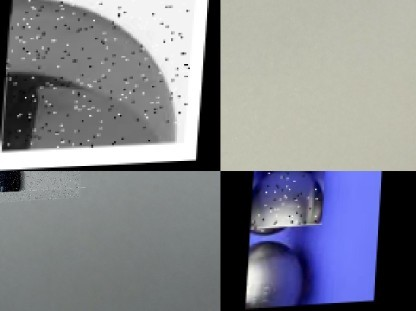ironball: (2, 0, 195, 151), (247, 233, 310, 309), (250, 171, 322, 231)
